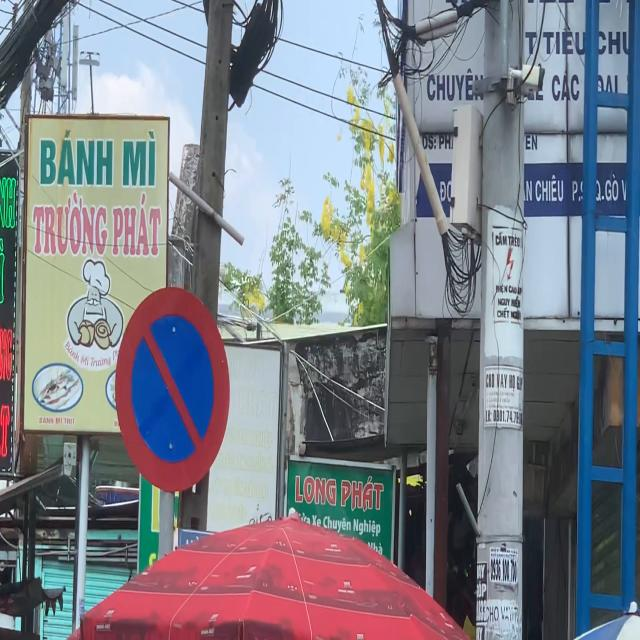Cam do: (114, 286, 230, 494)
